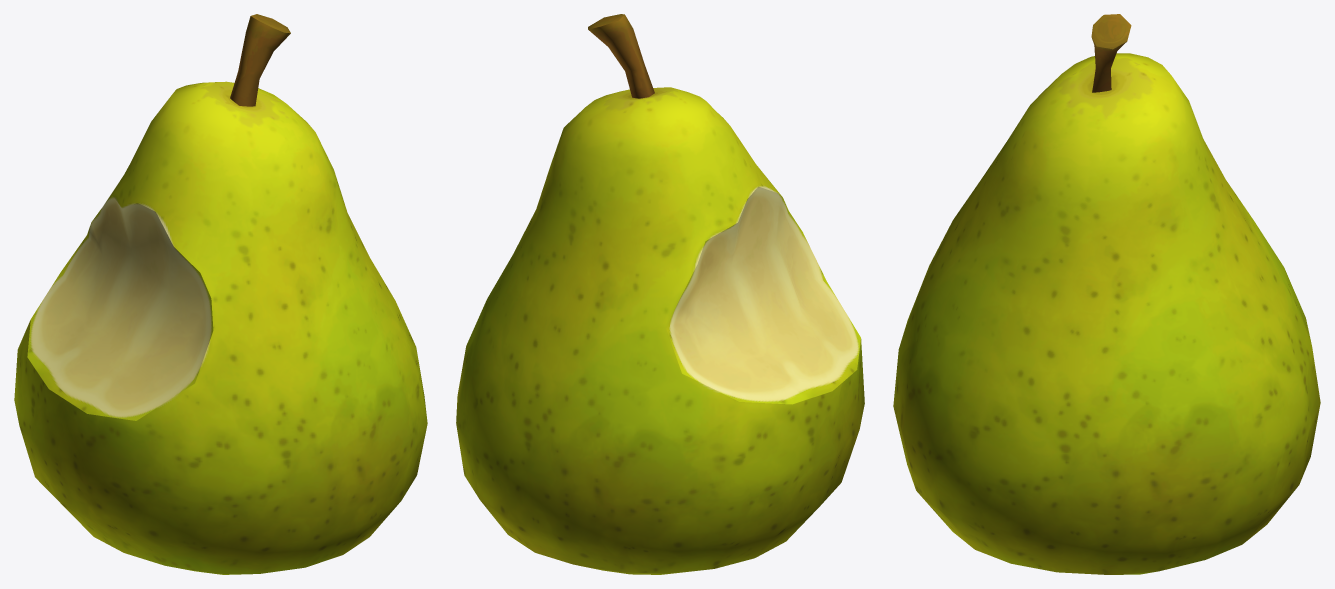
The model's file is SM_PearGreenBite.fbx.
3 views of the same model, side by side, from view 1: azimuth 30°, elevation 25°; view 2: azimuth 150°, elevation 25°; view 3: azimuth 270°, elevation 25° (orthographic). The views are drawn at different scales.
Parts seen in each view (by area): view 1: SM_PearGreenBite; view 2: SM_PearGreenBite; view 3: SM_PearGreenBite.
Part boxes in pixels (x1,y1,x2,y2): SM_PearGreenBite: (14,14,427,574); SM_PearGreenBite: (456,14,864,574); SM_PearGreenBite: (893,14,1320,574).
Size of the model in its own units: 13.47 by 18.63 by 13.34.
